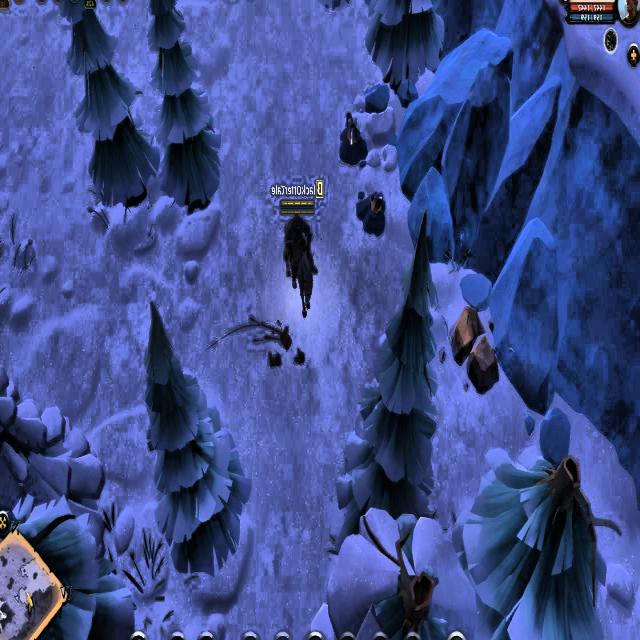copperore: (336, 110, 369, 168), (356, 186, 388, 238)
limestone: (451, 302, 502, 394)
